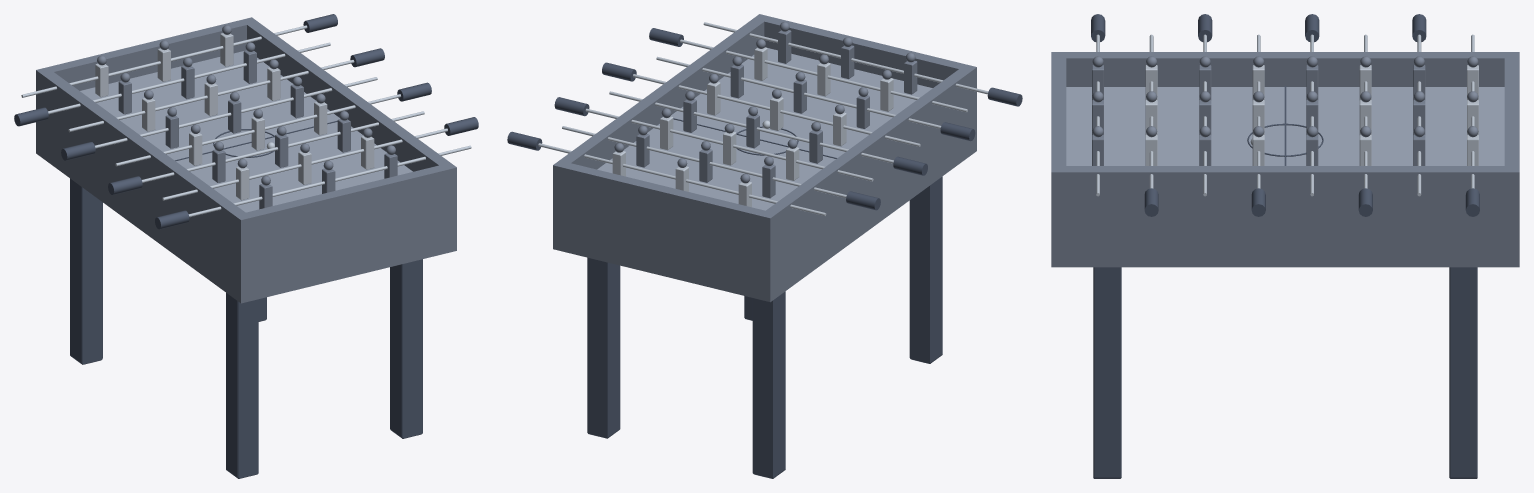
File: foosball-table-lite.glb
3 views of the same model, side by side, from view 1: azimuth 30°, elevation 25°; view 2: azimuth 150°, elevation 25°; view 3: azimuth 270°, elevation 25° (orthographic). The views are drawn at different scales.
Visible parts, largest first — view 1: accent, body, dark, soft, light; view 2: accent, body, dark, soft, light; view 3: accent, body, soft, dark, light.
Part boxes in pixels (bbox=[...]): accent: bbox=[36, 17, 456, 249]; body: bbox=[36, 50, 456, 303]; dark: bbox=[14, 14, 478, 478]; soft: bbox=[80, 51, 412, 212]; light: bbox=[21, 25, 471, 217]; accent: bbox=[553, 14, 976, 248]; body: bbox=[553, 30, 976, 302]; dark: bbox=[507, 28, 1022, 478]; soft: bbox=[597, 48, 932, 210]; light: bbox=[538, 22, 988, 215]; accent: bbox=[1051, 52, 1519, 206]; body: bbox=[1051, 65, 1519, 267]; soft: bbox=[1066, 87, 1504, 165]; dark: bbox=[1091, 14, 1479, 478]; light: bbox=[1096, 34, 1478, 196].
Size of the model in its own units: 1.2 by 0.99 by 1.25.
